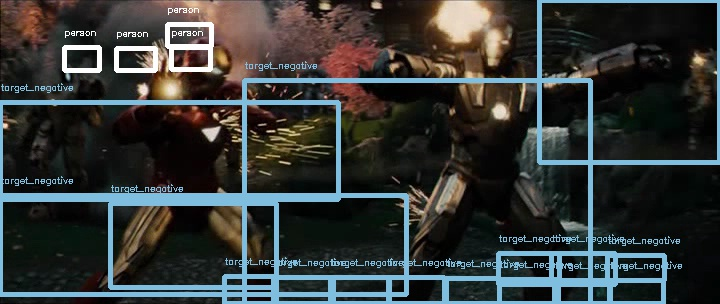person: (176, 36, 229, 88), (175, 36, 228, 88), (177, 36, 230, 88), (176, 35, 229, 87), (176, 37, 229, 89)
target_negative: (593, 90, 673, 287), (49, 93, 193, 170), (641, 6, 668, 176), (248, 267, 608, 276), (570, 64, 588, 133), (589, 141, 606, 148)
